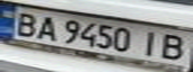0: (112, 25, 136, 53)
4: (78, 20, 100, 47)
5: (93, 22, 115, 52)
9: (57, 17, 84, 45)
A: (33, 13, 60, 42)
B: (157, 32, 190, 61), (9, 10, 42, 37)
I: (136, 28, 166, 57)
